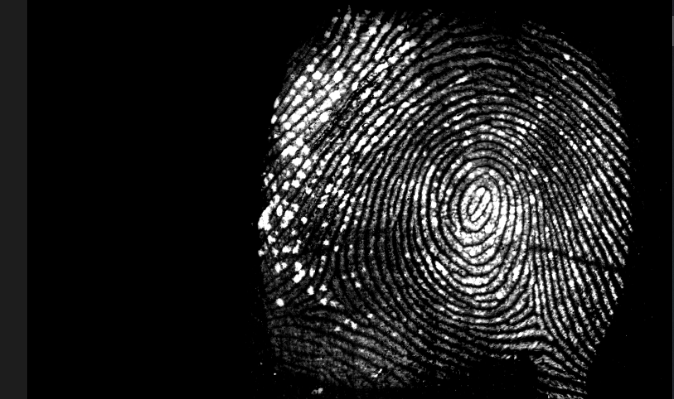nucelo: (459, 173, 498, 228)
verticilo: (301, 274, 342, 315), (518, 299, 553, 335)
